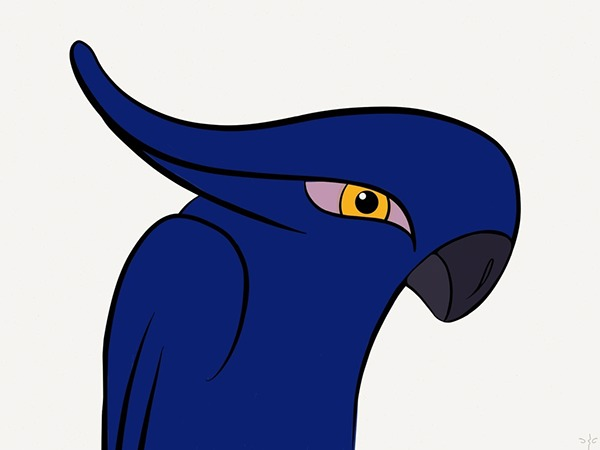bird: (70, 30, 563, 450)
